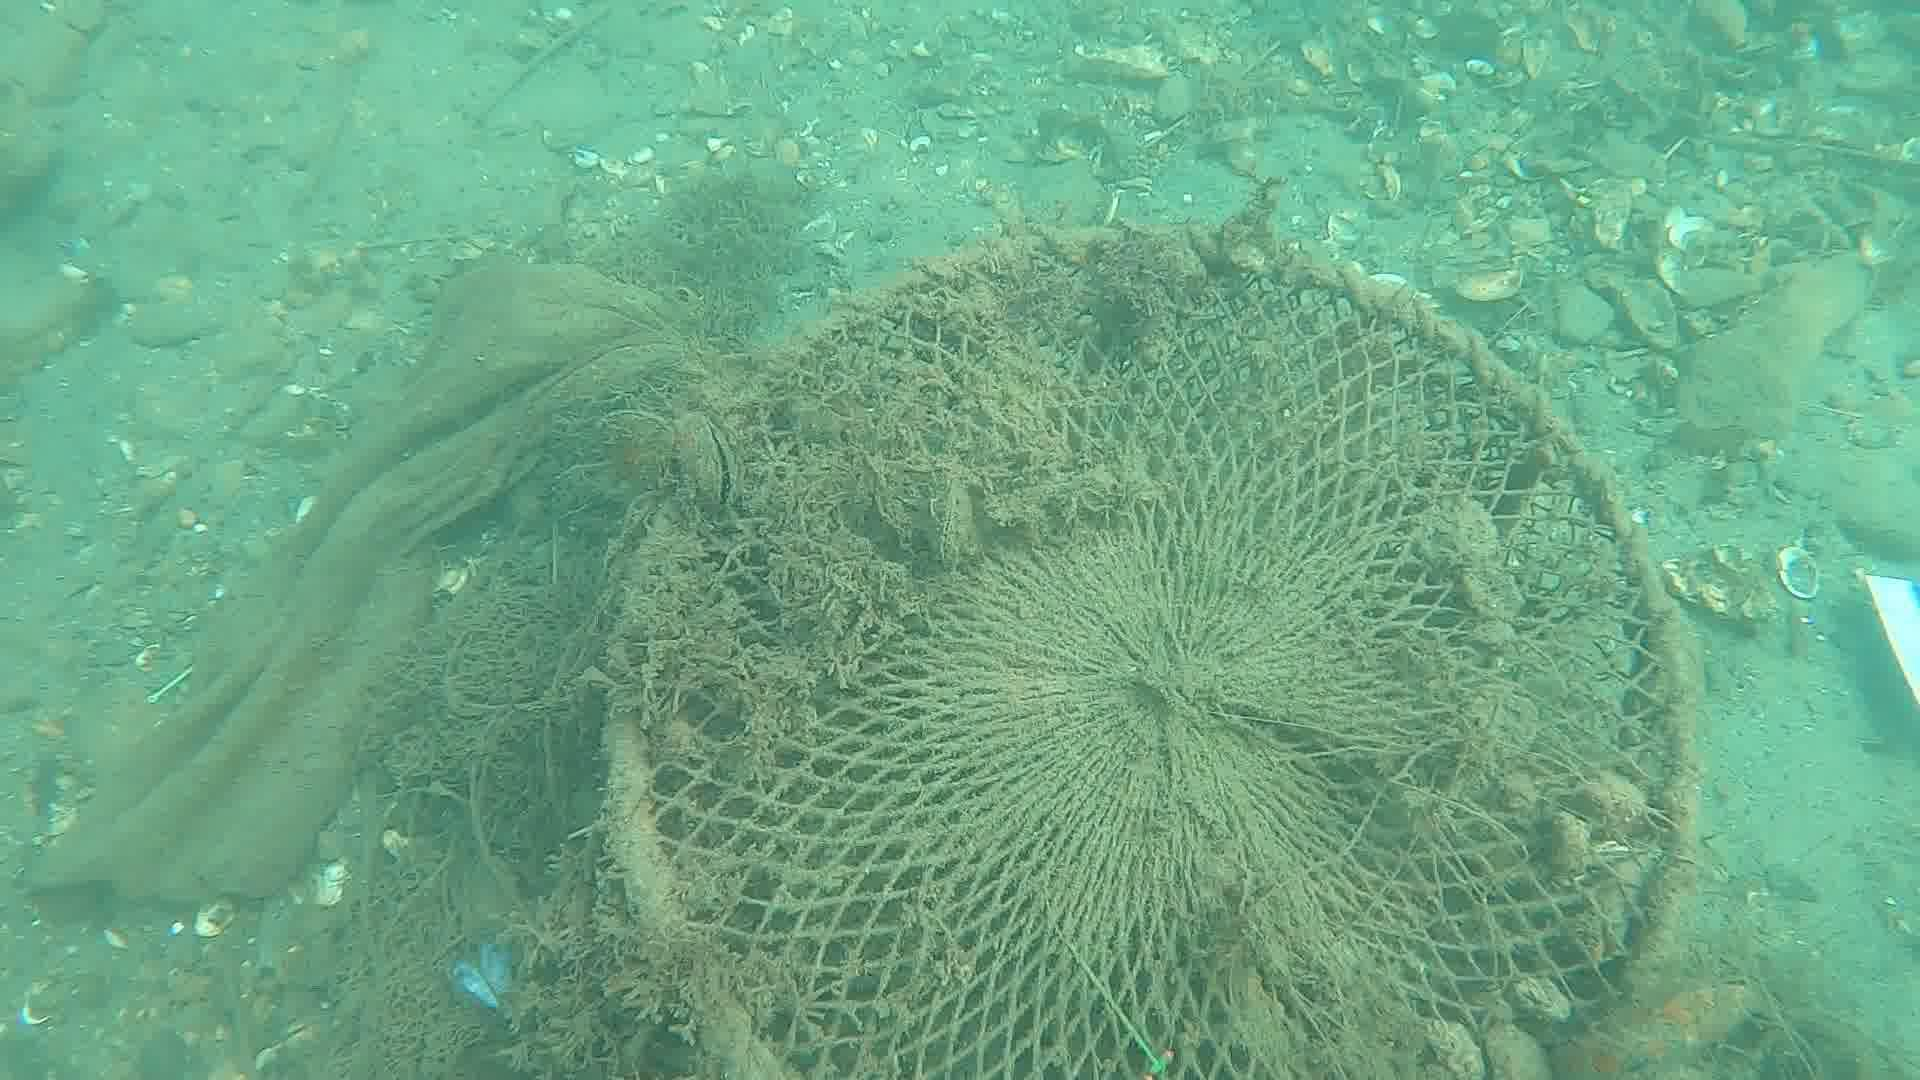circular fish trap: (599, 214, 1697, 1080)
